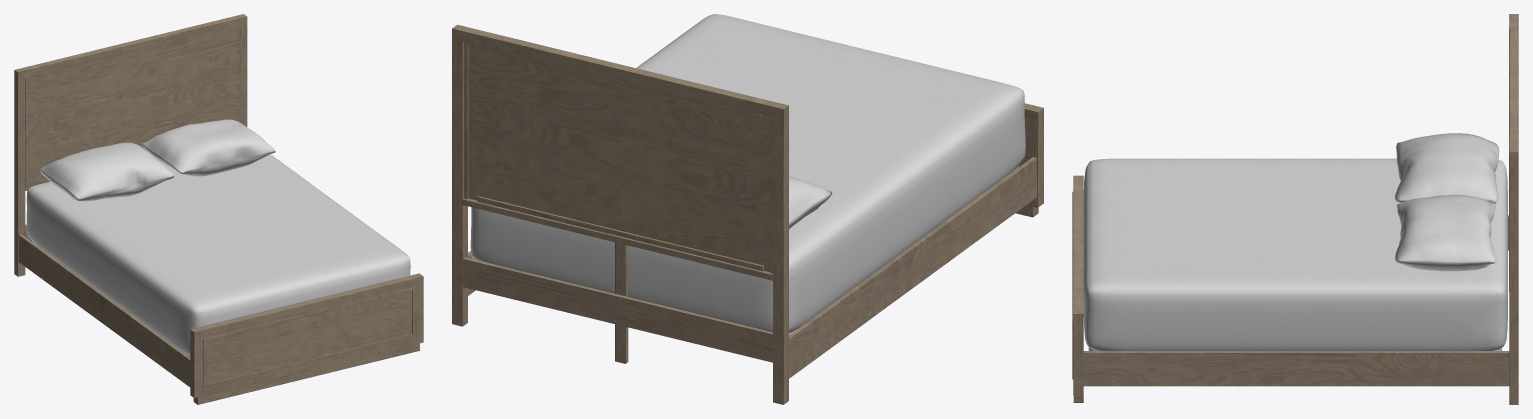
The model's file is abo-B07B4YC7LD.glb.
The picture shows the model from 3 angles, left to right: view 1: azimuth 30°, elevation 25°; view 2: azimuth 150°, elevation 25°; view 3: azimuth 270°, elevation 25°; orthographic projection. The views are drawn at different scales.
Size of the model in its own units: 1.61 by 1.37 by 2.19.
Materials: 1 (1 with a texture image).
